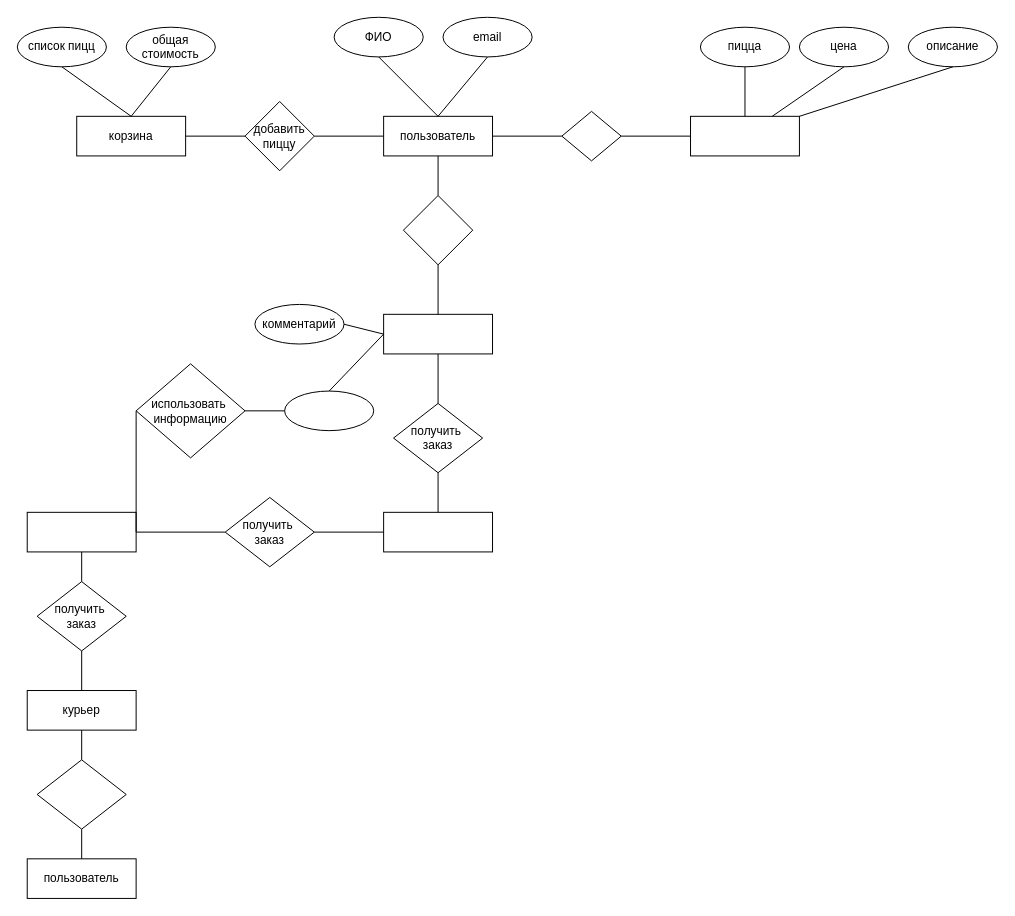
Image size: 1015x916. Some labels were removed from this diagram. The box of each missing label's shape, as (x1, y1, x2, y2) in pixels:
заказ: (383, 313, 493, 354)
информация: (284, 390, 374, 431)
меню: (690, 115, 799, 156)
отдать заказ: (36, 759, 126, 829)
оформить заказ: (402, 195, 473, 265)
пиццерия: (383, 511, 493, 552)
повар: (26, 511, 136, 552)
смотрит: (561, 110, 621, 161)
